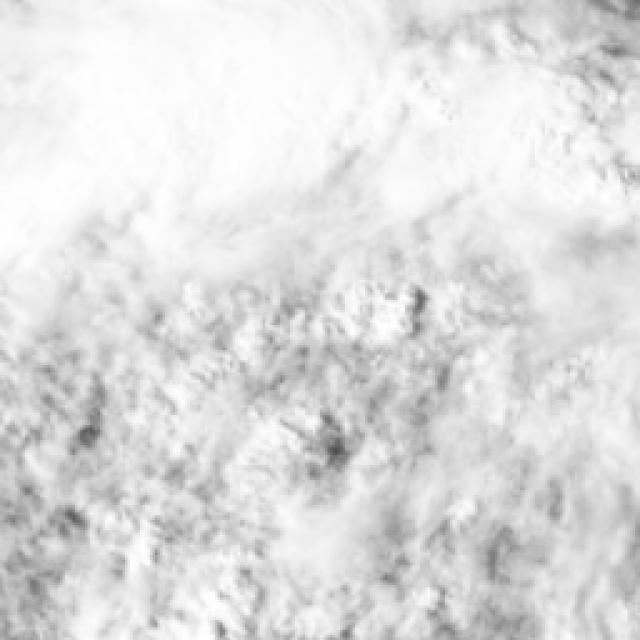CB: (71, 0, 352, 191)
